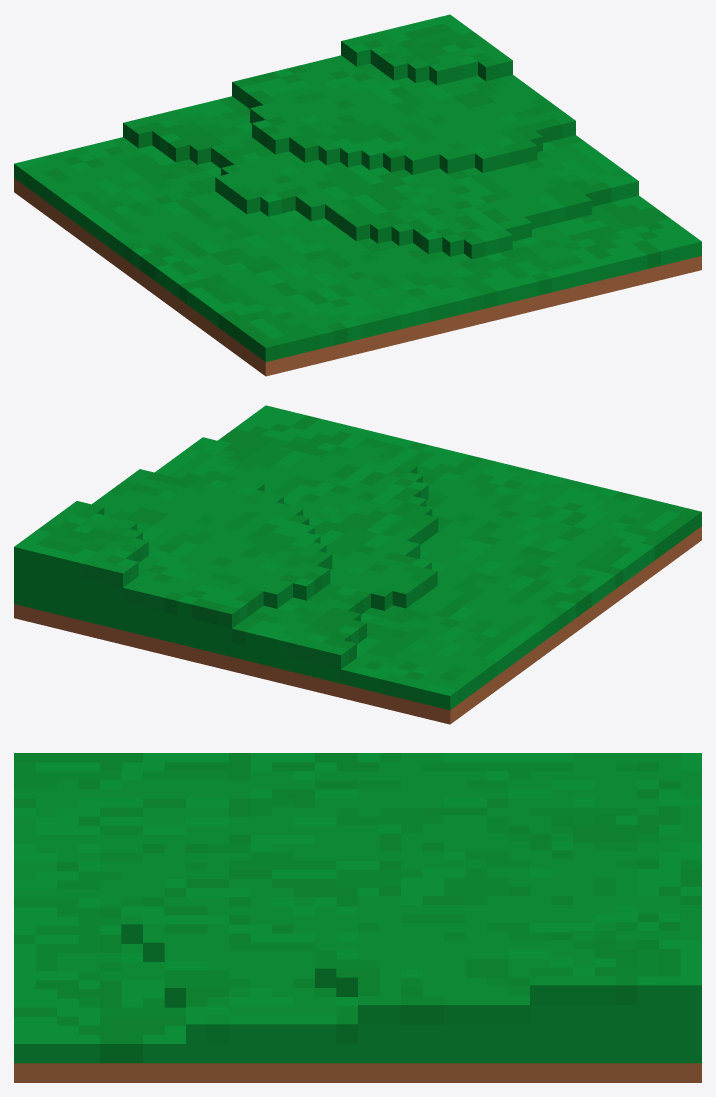
The model's file is forest-uneven-edge-outer-4.gltf.
The picture shows the model from 3 angles, top to bottom: view 1: azimuth 30°, elevation 25°; view 2: azimuth 150°, elevation 25°; view 3: azimuth 270°, elevation 25°; orthographic projection. The views are drawn at different scales.
Visible parts, largest first — view 1: forest-uneven-edge-outer-4_model; view 2: forest-uneven-edge-outer-4_model; view 3: forest-uneven-edge-outer-4_model.
Part boxes in pixels (x1,y1,x2,y2): forest-uneven-edge-outer-4_model: (14, 14, 701, 376); forest-uneven-edge-outer-4_model: (14, 405, 701, 724); forest-uneven-edge-outer-4_model: (14, 753, 701, 1082).
Size of the model in its own units: 3.2 by 0.5 by 3.2.
Materials: 1 (1 with a texture image).
